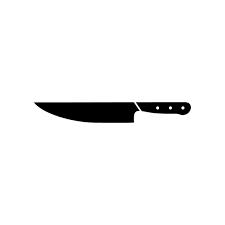Knife: (33, 101, 191, 123)
